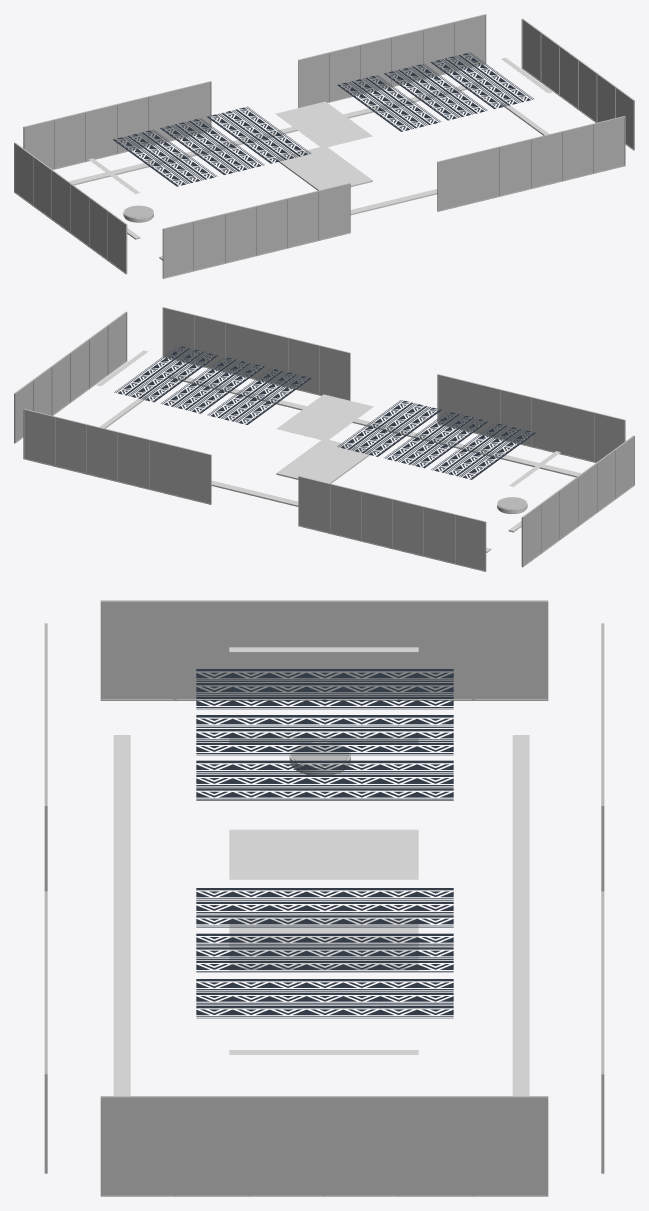
The model's file is Exhibition_Marielle_Details.fbx.
The picture shows the model from 3 angles, top to bottom: view 1: azimuth 30°, elevation 25°; view 2: azimuth 150°, elevation 25°; view 3: azimuth 270°, elevation 25°; orthographic projection. The views are drawn at different scales.
Visible parts, largest first — view 1: Windows_4, Windows_3, Windows_5, Windows_6, Window_Ceiling_1, Window_Ceiling_2, Windows_1, Windows_2, Floor_Emission_5, Floor_Emission_2, Frame_4, Frame_3 (+7 smaller); view 2: Windows_5, Windows_6, Windows_4, Windows_3, Window_Ceiling_1, Window_Ceiling_2, Windows_1, Windows_2, Floor_Emission_5, Floor_Emission_1, Frame_5, Frame_6 (+7 smaller); view 3: Windows_2, Windows_1, Window_Ceiling_1, Window_Ceiling_2, Floor_Emission_5, Floor_Emission_1, Floor_Emission_2, Frame_2, Frame_1, Floor_Emission_3, Frame_4, Frame_5 (+4 smaller).
Part boxes in pixels (x1,y1,x2,y2): Windows_4: (438, 117, 624, 210); Windows_3: (164, 184, 349, 277); Windows_5: (299, 15, 485, 107); Windows_6: (24, 82, 210, 169); Window_Ceiling_1: (113, 106, 311, 186); Window_Ceiling_2: (337, 52, 534, 131); Windows_1: (14, 144, 125, 272); Windows_2: (522, 20, 633, 148); Floor_Emission_5: (275, 101, 372, 190); Floor_Emission_2: (69, 81, 483, 185); Frame_4: (437, 116, 625, 211); Frame_3: (162, 183, 350, 278); Windows_5: (24, 410, 210, 503); Windows_6: (299, 477, 484, 570); Windows_4: (163, 308, 349, 400); Windows_3: (438, 375, 624, 462); Window_Ceiling_1: (337, 400, 535, 479); Window_Ceiling_2: (114, 345, 311, 424); Windows_1: (523, 437, 634, 565); Windows_2: (15, 313, 126, 441); Floor_Emission_5: (276, 394, 373, 483); Floor_Emission_1: (167, 373, 581, 477); Frame_5: (23, 409, 211, 504); Frame_6: (298, 476, 486, 571); Windows_2: (102, 1098, 546, 1194); Windows_1: (102, 603, 546, 699); Window_Ceiling_1: (196, 669, 453, 800); Window_Ceiling_2: (196, 888, 453, 1018); Floor_Emission_5: (229, 829, 418, 970); Floor_Emission_1: (113, 735, 130, 1095); Floor_Emission_2: (512, 735, 529, 1095); Frame_2: (100, 1096, 548, 1196); Frame_1: (100, 600, 548, 700); Floor_Emission_3: (229, 647, 418, 742); Frame_4: (44, 891, 47, 1173); Frame_5: (601, 891, 604, 1173).
Size of the model in its own units: 5250 by 512 by 2500.
